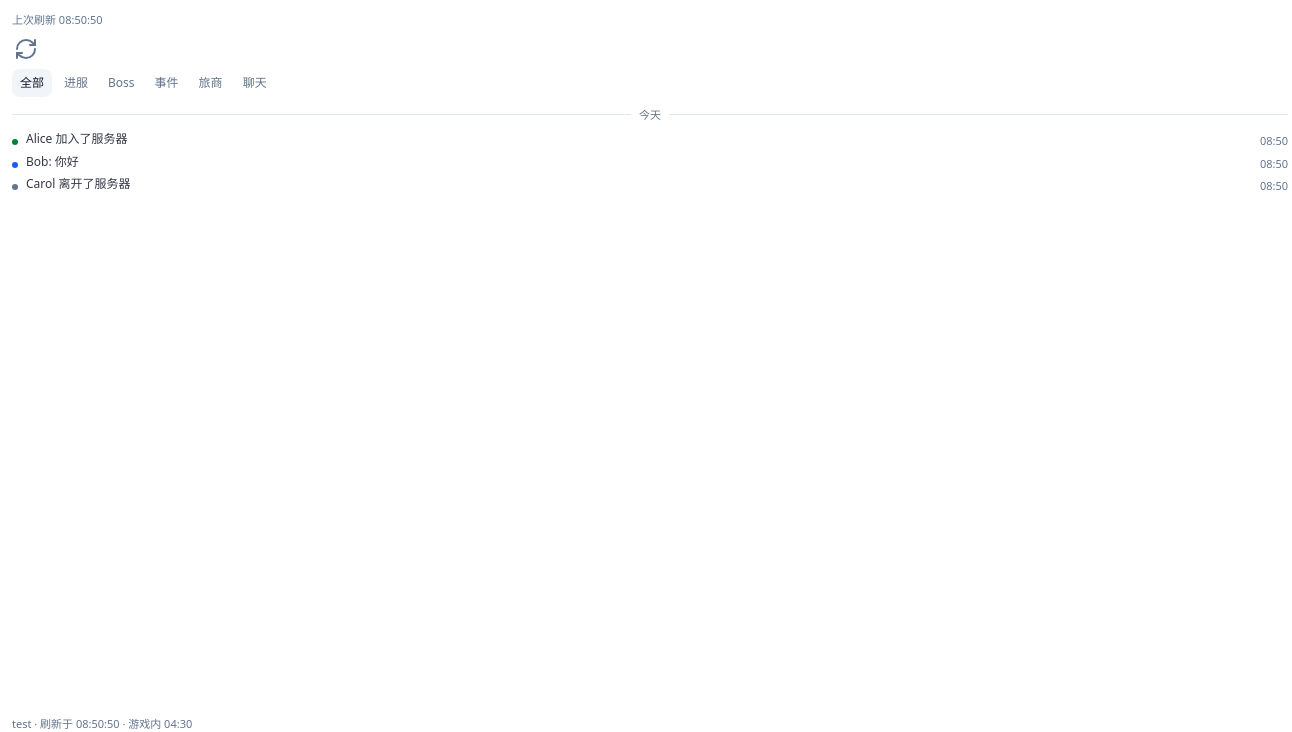
Test: ServerFeedTab 类型筛选 › 「进服」筛选仍同时显示进服和退服事件（只是改了文字）
Expected: the text "Alice 加入了服务器" is shown, [26,130,128,147]
Click the button "进服" at x=76, y=82, box [56,68,96,96]
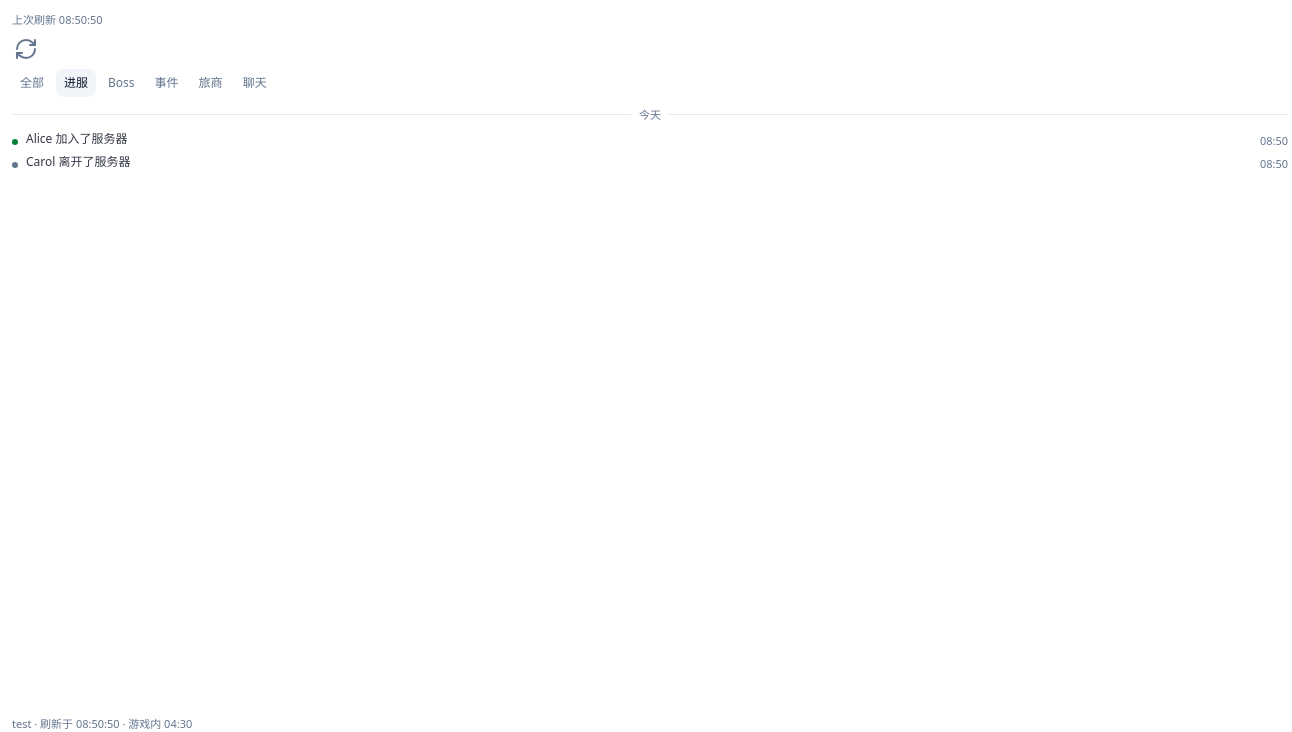
Expected: the text "Alice 加入了服务器" is shown, [26,130,128,147]
Expected: the text "Bob: 你好" is gone
